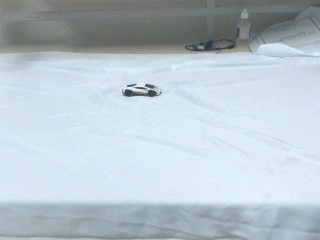bottle: (236, 9, 251, 48)
toy_car: (121, 83, 162, 97)
